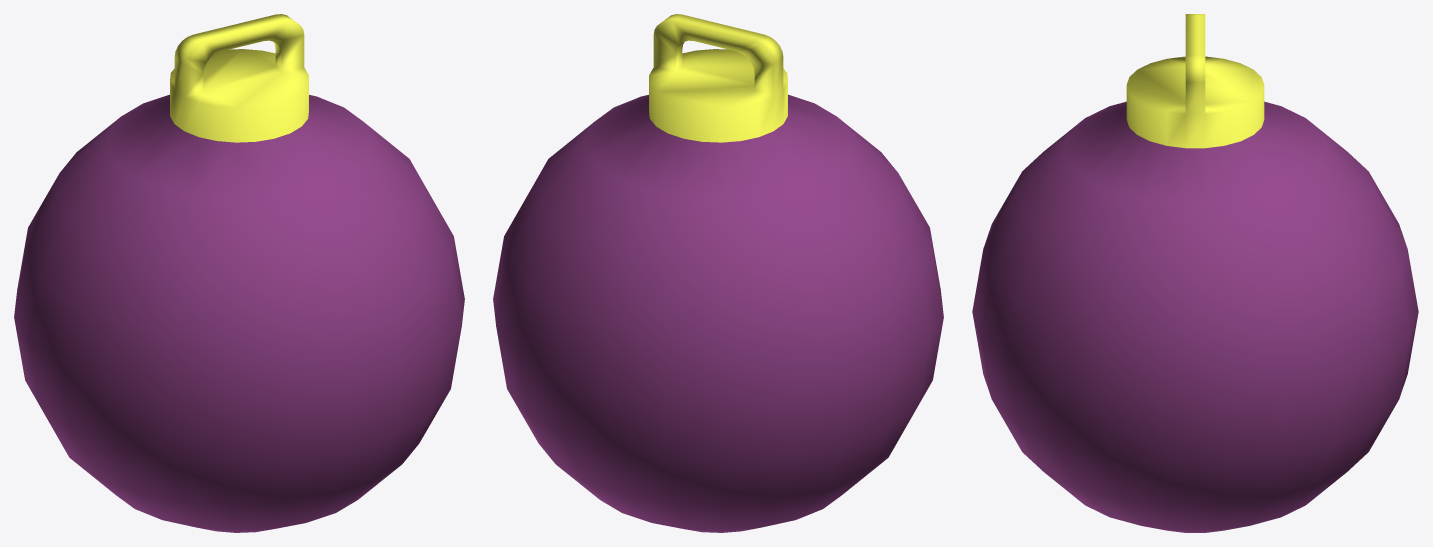
3 renders of one model, left to right at view 1: azimuth 30°, elevation 25°; view 2: azimuth 150°, elevation 25°; view 3: azimuth 270°, elevation 25°, orthographic.
Parts seen in each view (by area): view 1: Sphere.003; view 2: Sphere.003; view 3: Sphere.003.
Part boxes in pixels (bbox=[...]): Sphere.003: bbox=[14, 14, 464, 532]; Sphere.003: bbox=[493, 14, 943, 532]; Sphere.003: bbox=[972, 14, 1418, 532].
Size of the model in its own units: 2515 by 3005 by 2542.
